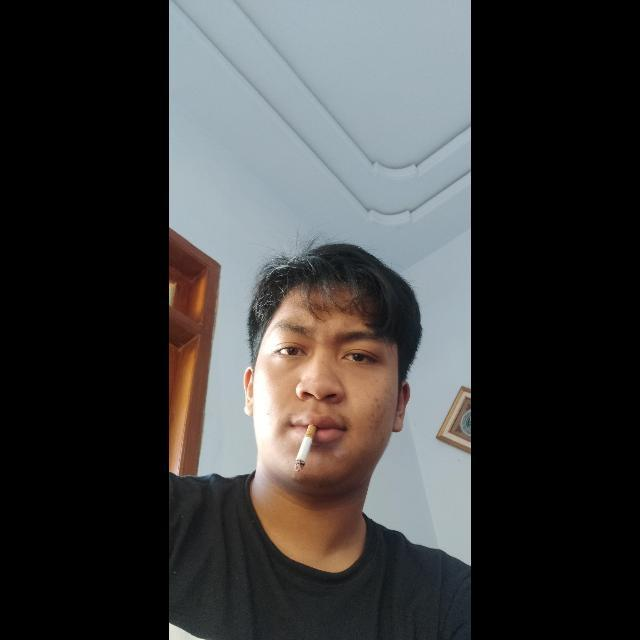rokok: (284, 421, 320, 475)
